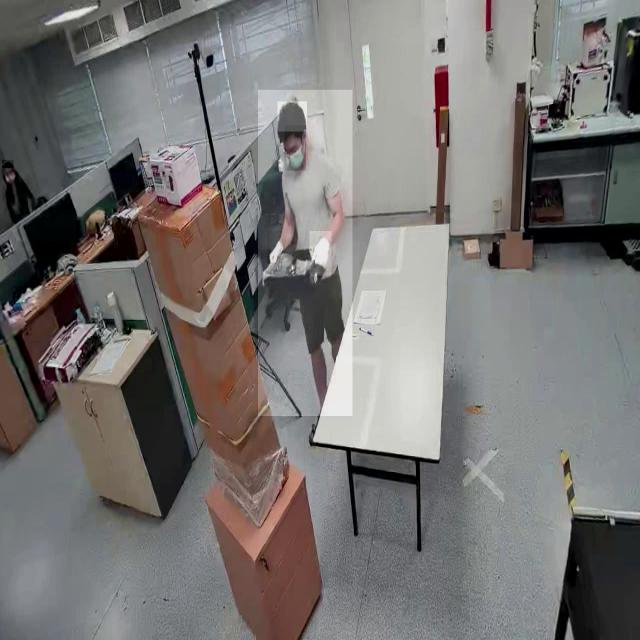face_mask: (284, 125, 306, 171)
hand_glove: (309, 231, 331, 277), (266, 231, 286, 277)
head_nohelmet: (277, 101, 307, 132), (2, 160, 14, 169)
person: (258, 90, 352, 417)
